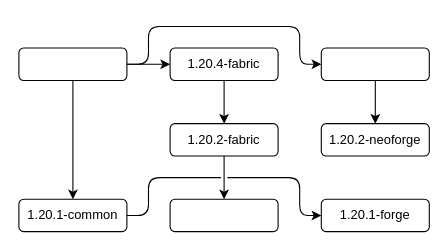
Image size: 448x251. Some labels were removed from this diagram. Here are the shapes that lost their labels. From the top down, the box of each, then its label:
(18, 47, 127, 80): 1.20.4-common
(320, 47, 429, 80): 1.20.4-neoforge
(169, 198, 278, 232): 1.20.1 -fabric
